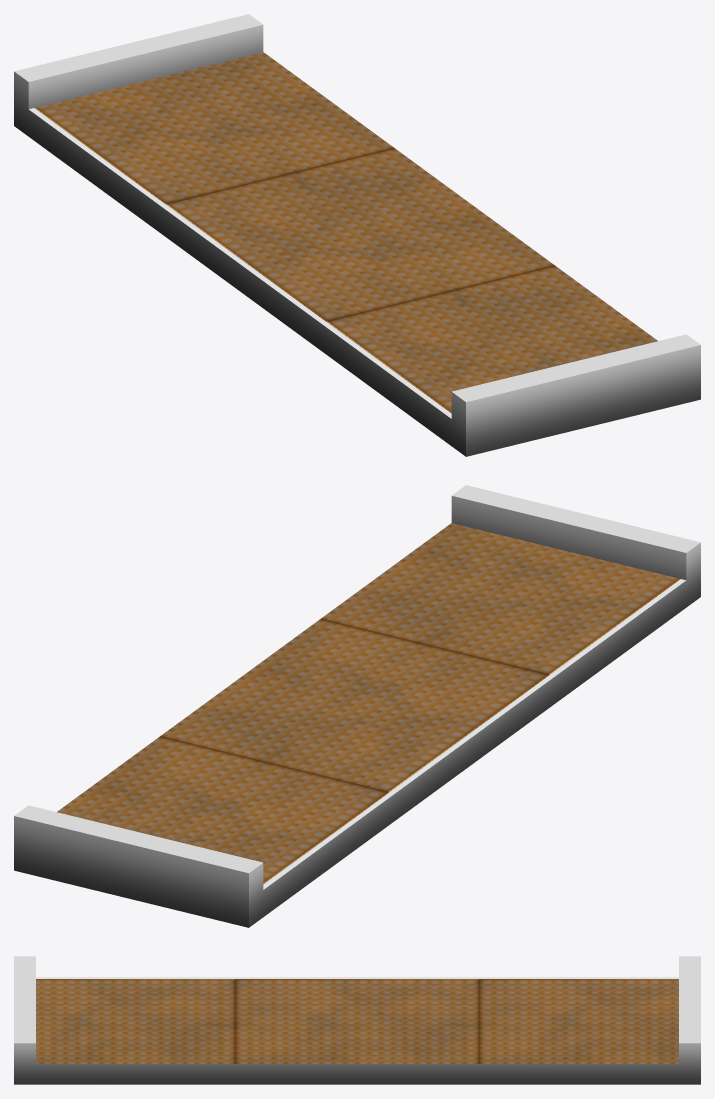
File: Corridor_bridge (2).fbx
The picture shows the model from 3 angles, top to bottom: view 1: azimuth 30°, elevation 25°; view 2: azimuth 150°, elevation 25°; view 3: azimuth 270°, elevation 25°; orthographic projection. The views are drawn at different scales.
Visible parts, largest first — view 1: Cube.006; view 2: Cube.006; view 3: Cube.006.
Part boxes in pixels (x1,y1,x2,y2): Cube.006: [14, 14, 700, 456]; Cube.006: [14, 485, 700, 927]; Cube.006: [14, 956, 700, 1084].
Bounding box in the file's own units: 90 × 20 × 300.
